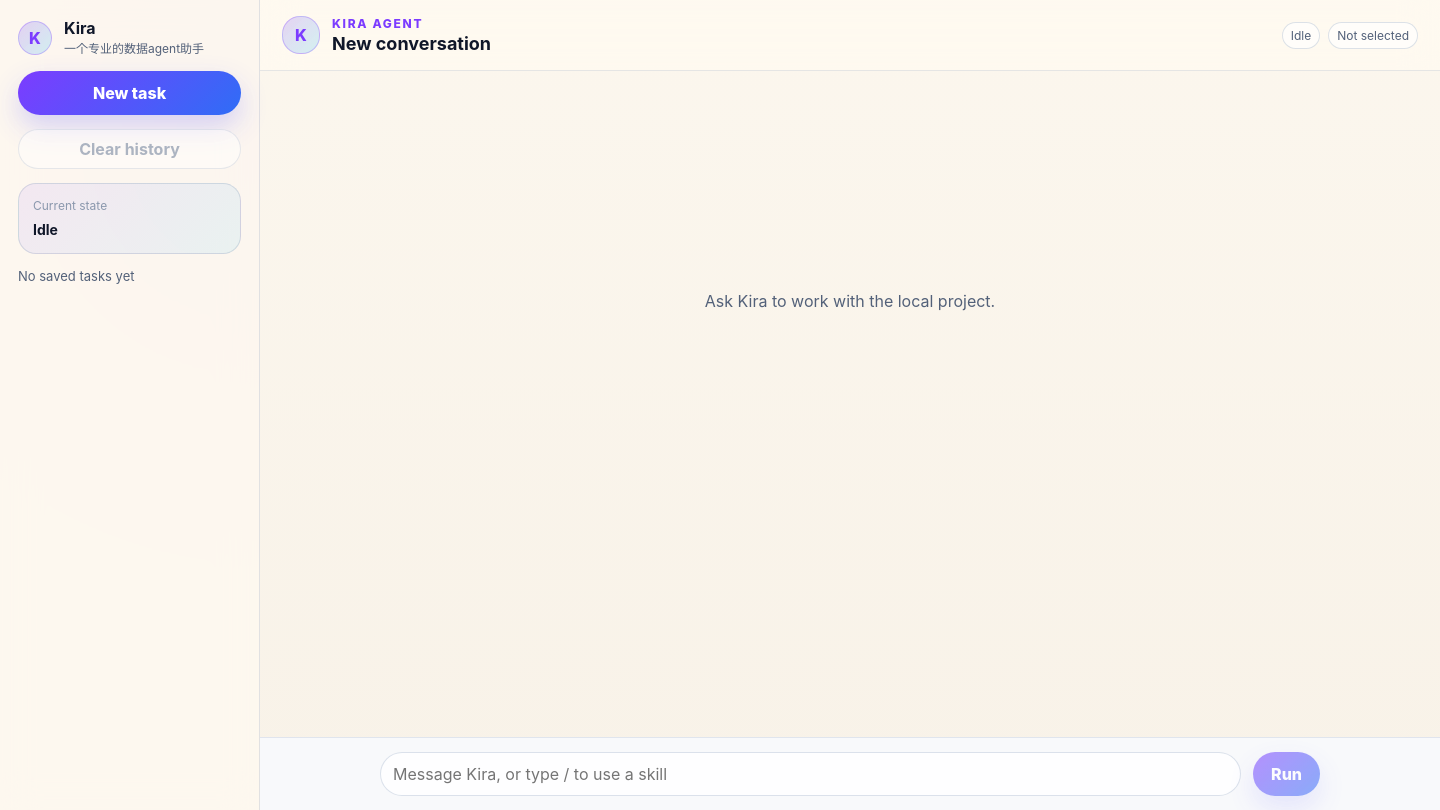
AgentWorkbench › aggregates chunked text into one assistant row and does not render done as a primary card
The width and height of the screenshot is (1440, 810).
In the field named "Prompt": [811, 774] box x1=380 y1=752 x2=1241 y2=796, type "Aggregate this answer"
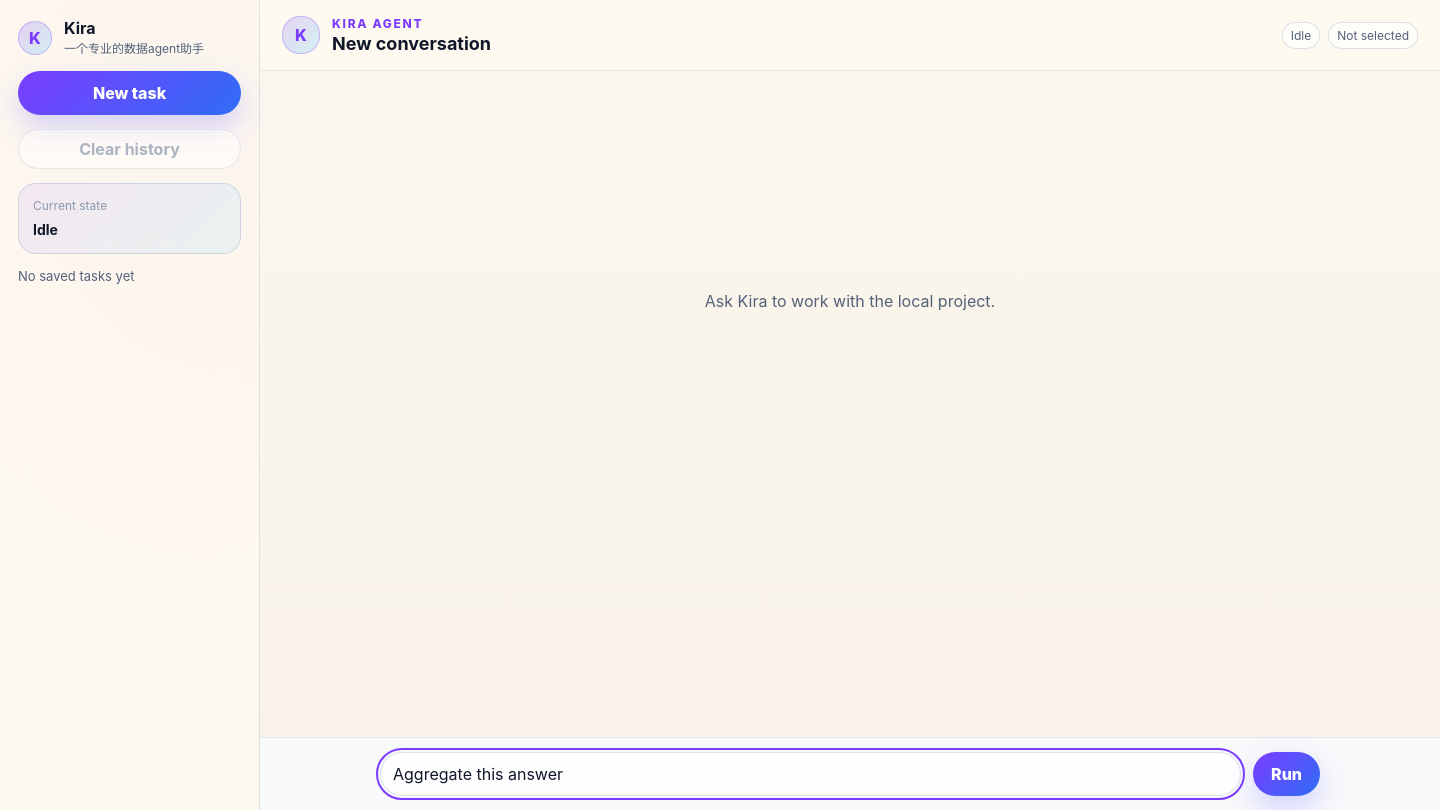
Click the button "Run": [1287, 774] box x1=1253 y1=752 x2=1320 y2=796
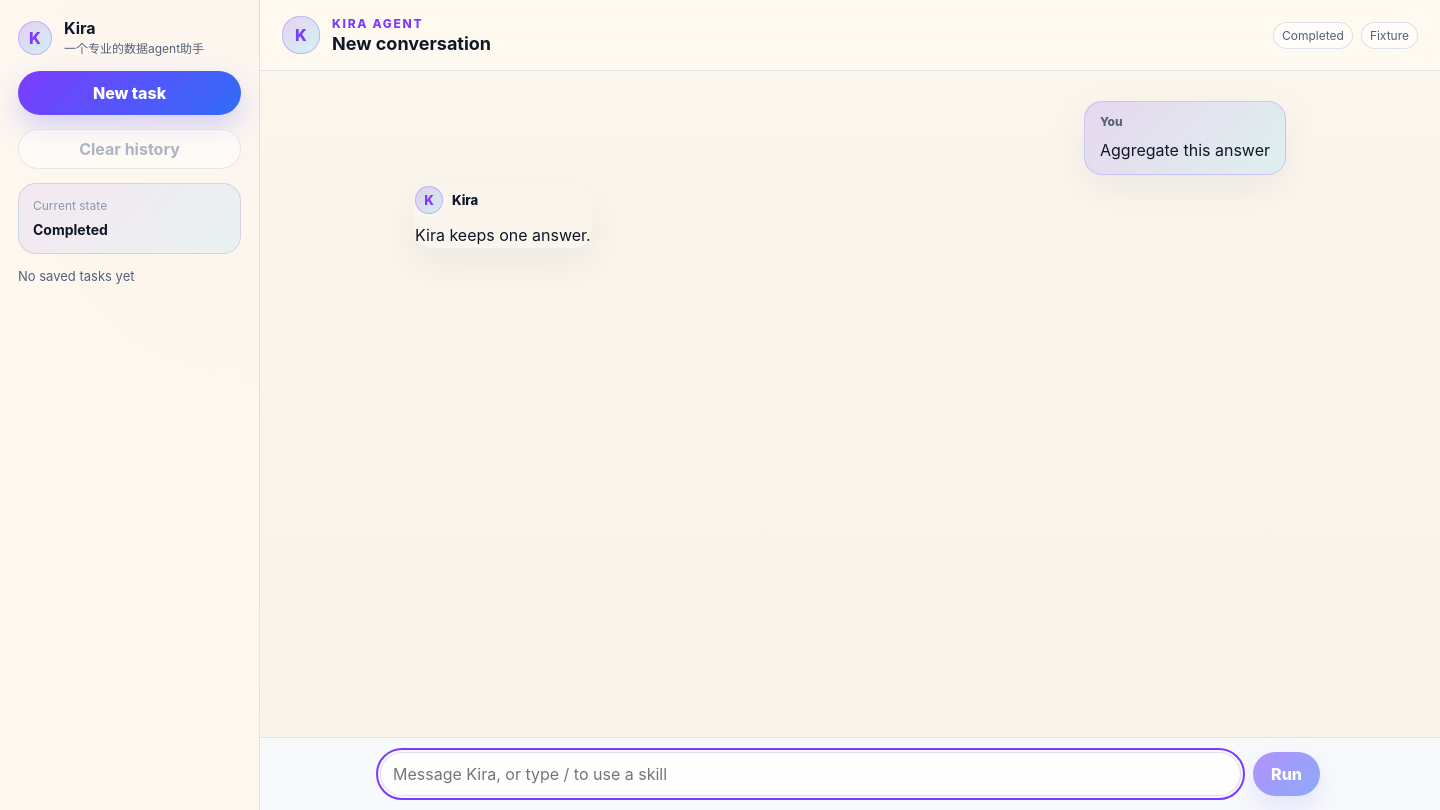
Now the number of elements with test id "answer-row" is 1, box x1=414 y1=185 x2=592 y2=248
Now the element with test id "answer-row" shows "Kira keeps one answer.", box x1=415 y1=225 x2=591 y2=245
